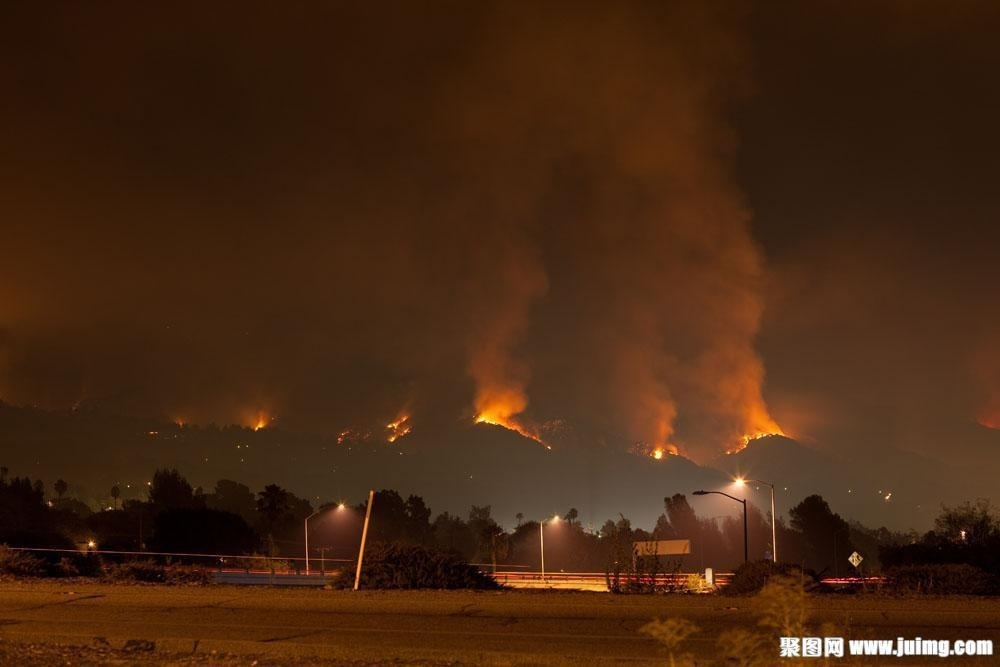fire: (473, 405, 539, 439), (730, 418, 783, 447), (385, 408, 412, 438), (246, 408, 271, 430), (650, 441, 678, 458), (728, 471, 750, 490)
